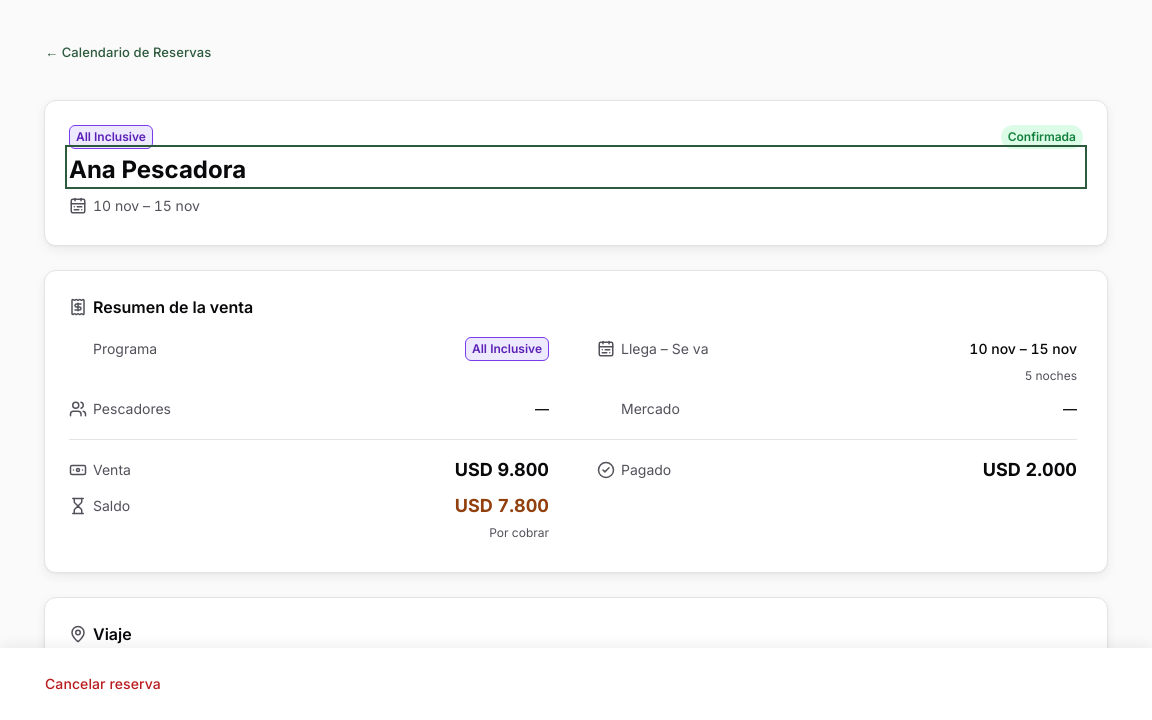
Test case: Ficha del pescador: cancelar › pide confirmación en la página y no cancela hasta el «Sí»
This screenshot has width=1152, height=720.
Click the button "Cancelar reserva": [103, 684] box [32,660,174,708]
(page scrolled)
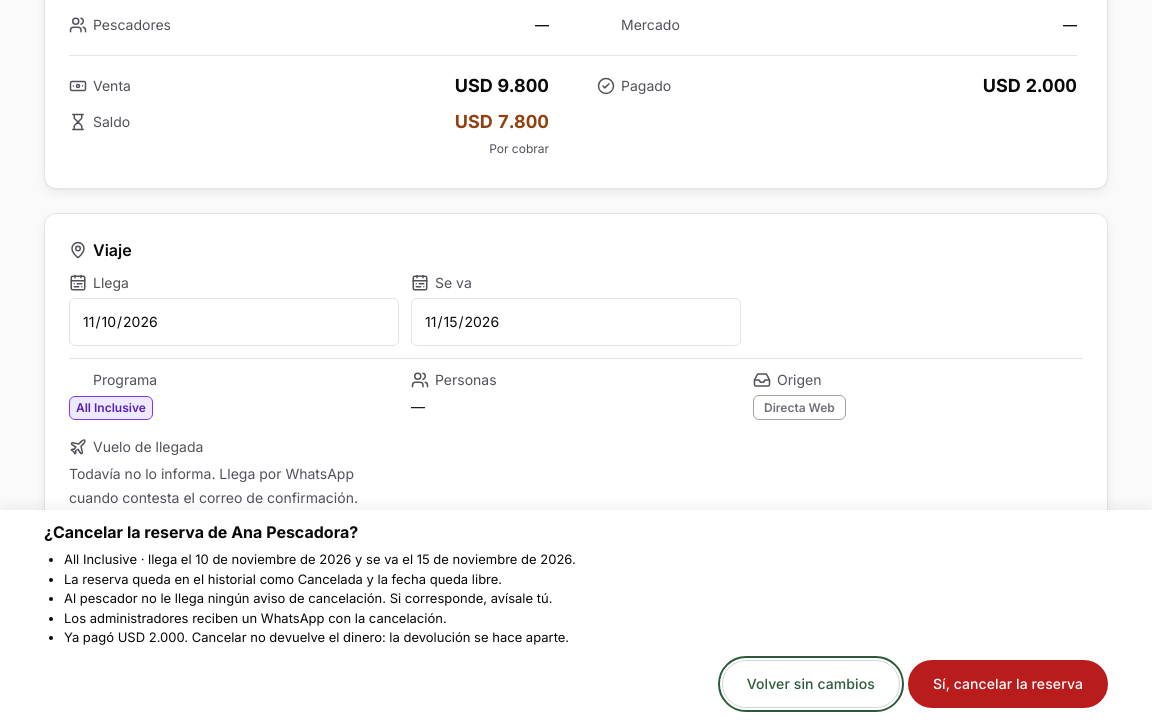
Check: the dialog shows "¿Cancelar la reserva de Ana Pescadora?", box [44,522,358,542]
Check: the dialog shows "Ya pagó USD 2.000. Cancelar no devuelve el dinero", box [64,630,569,646]
Click the button "Sí, cancelar la reserva": [1008, 684] box [908,660,1108,708]
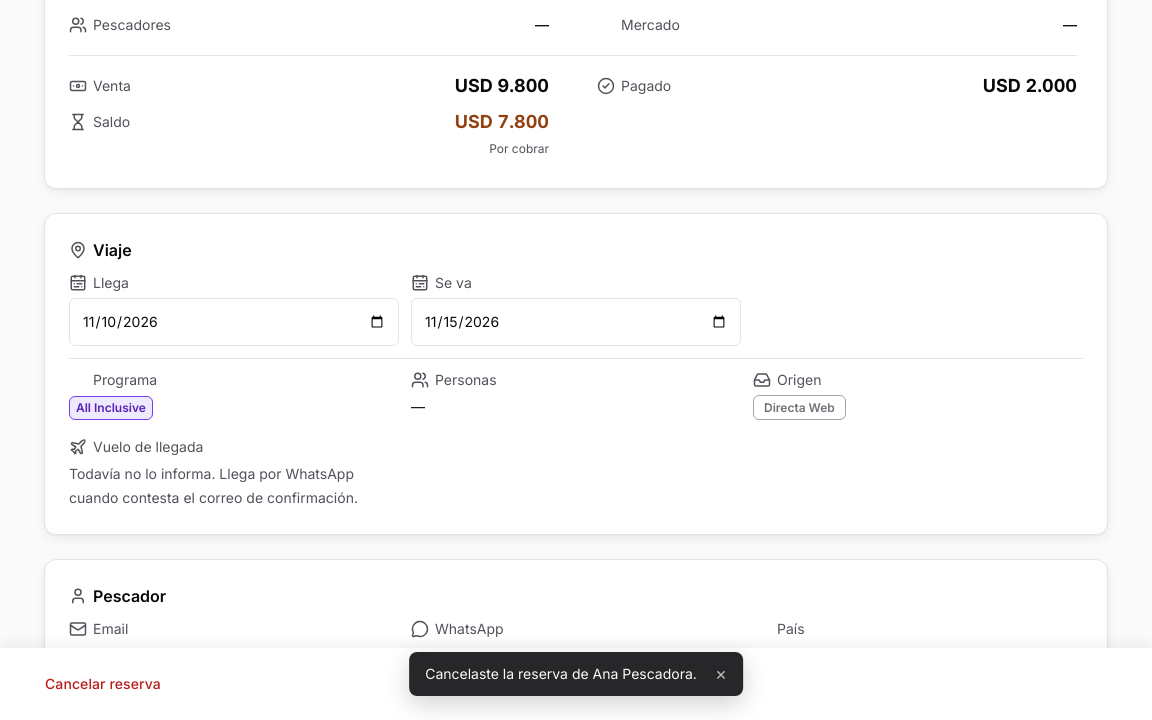
Check: the text "Cancelaste la reserva de Ana Pescadora." is shown, box [425,665,697,682]
